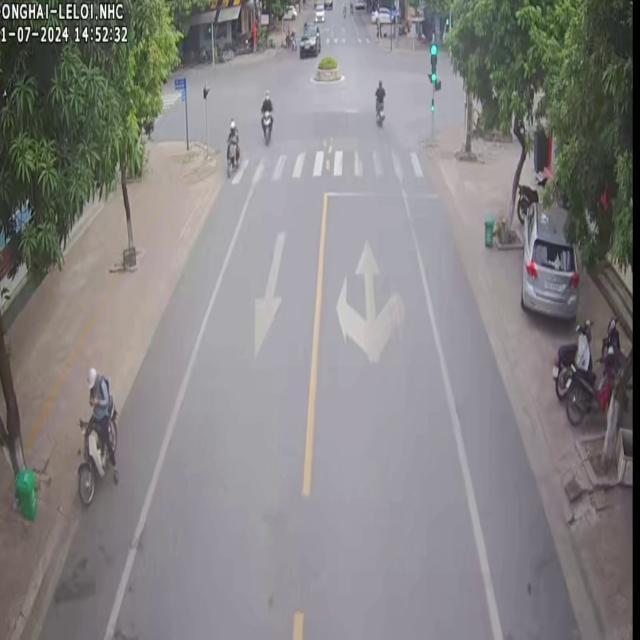car: (519, 200, 578, 318), (297, 20, 319, 58)
green_light: (430, 44, 437, 84)
motobike: (76, 365, 117, 502), (564, 347, 614, 422), (550, 318, 590, 398), (224, 118, 238, 176), (259, 89, 272, 141), (373, 78, 383, 125)
stop_line: (324, 189, 434, 197)
